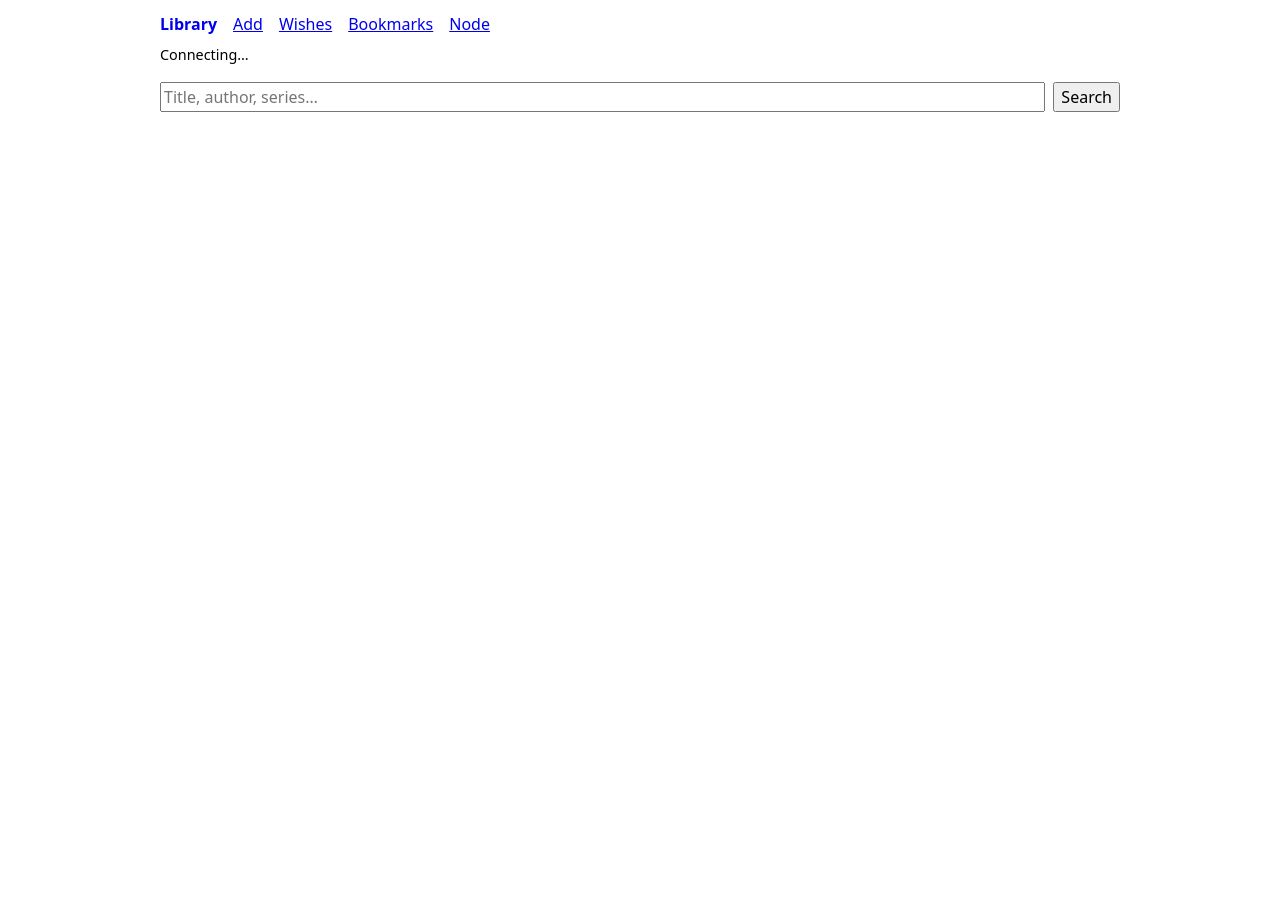
Test: the shell › opens the page for adding an item from its link
This screenshot has width=1280, height=912.
Click the link "Add". click: (248, 24)
box: [233,12,263,36]
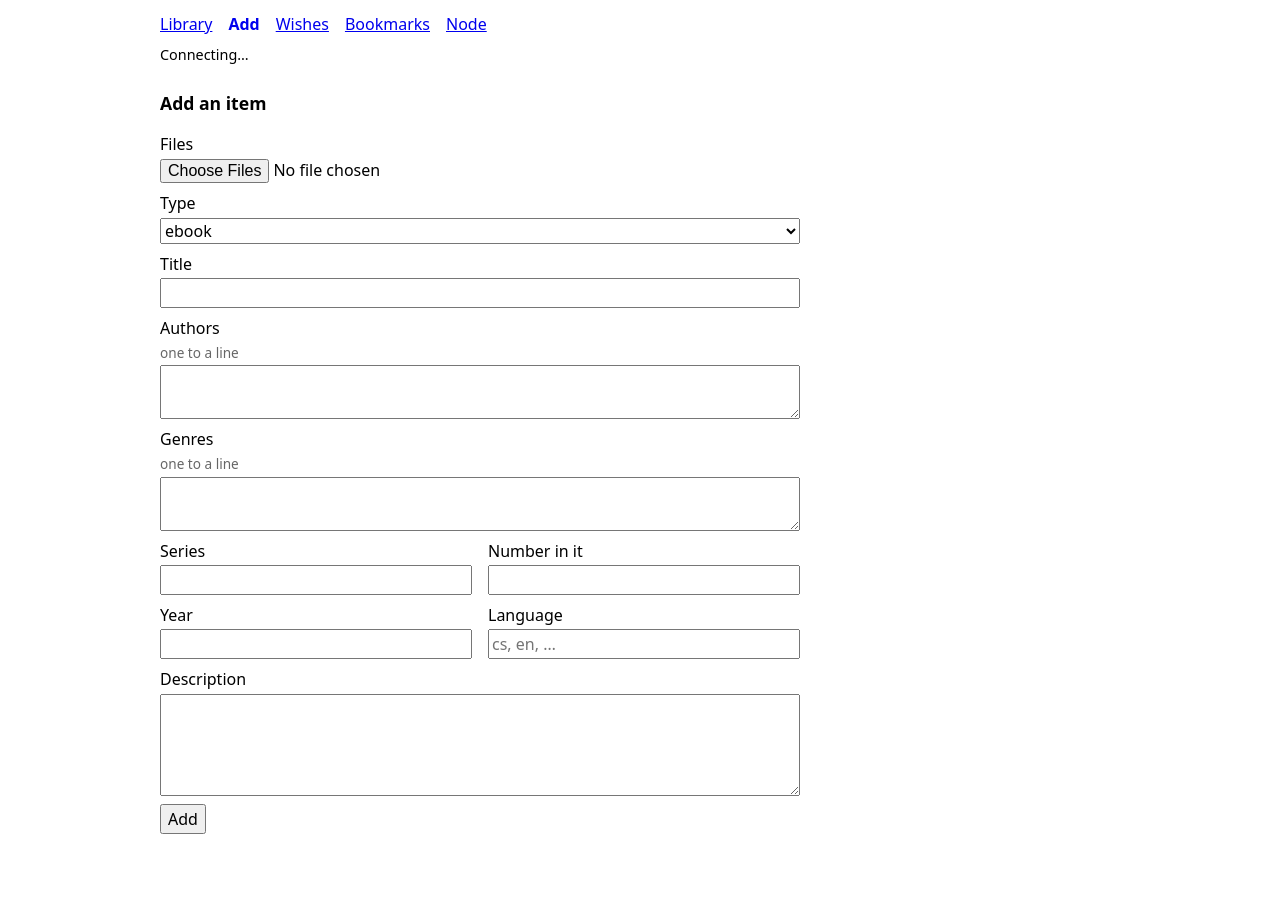
Expected: the heading "Add an item" is shown, [160,91,266,115]
